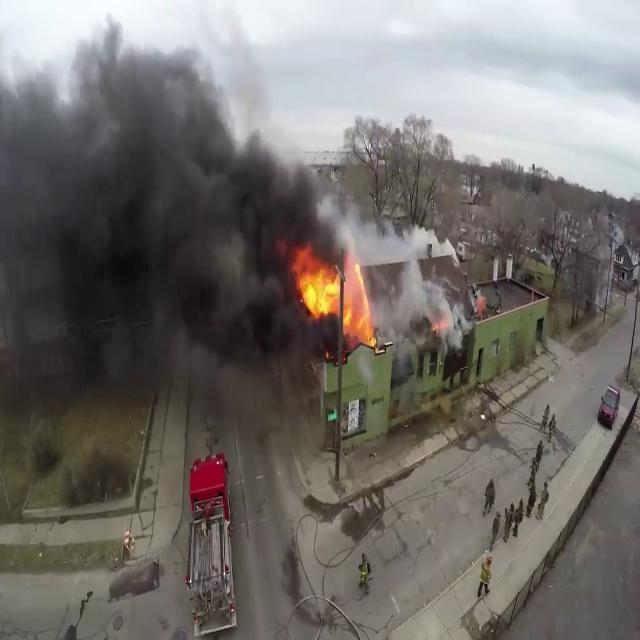Fire: (290, 250, 377, 344)
Smoke: (0, 11, 329, 441), (382, 220, 462, 351)
